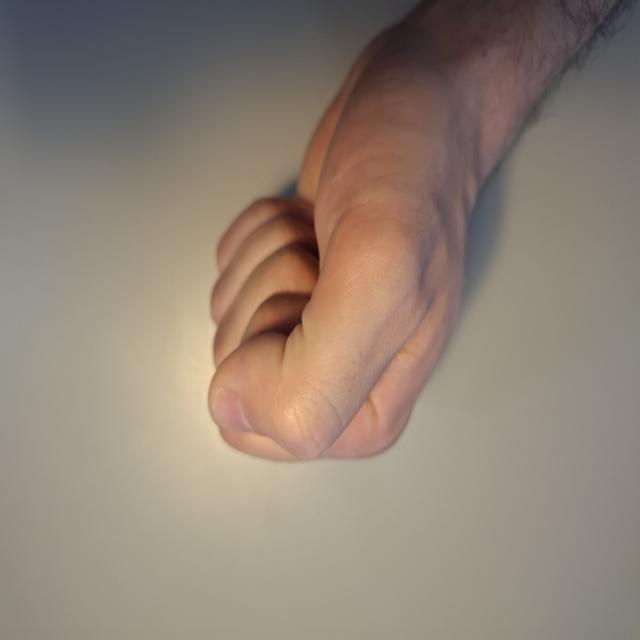glove_off: (204, 10, 576, 468)
